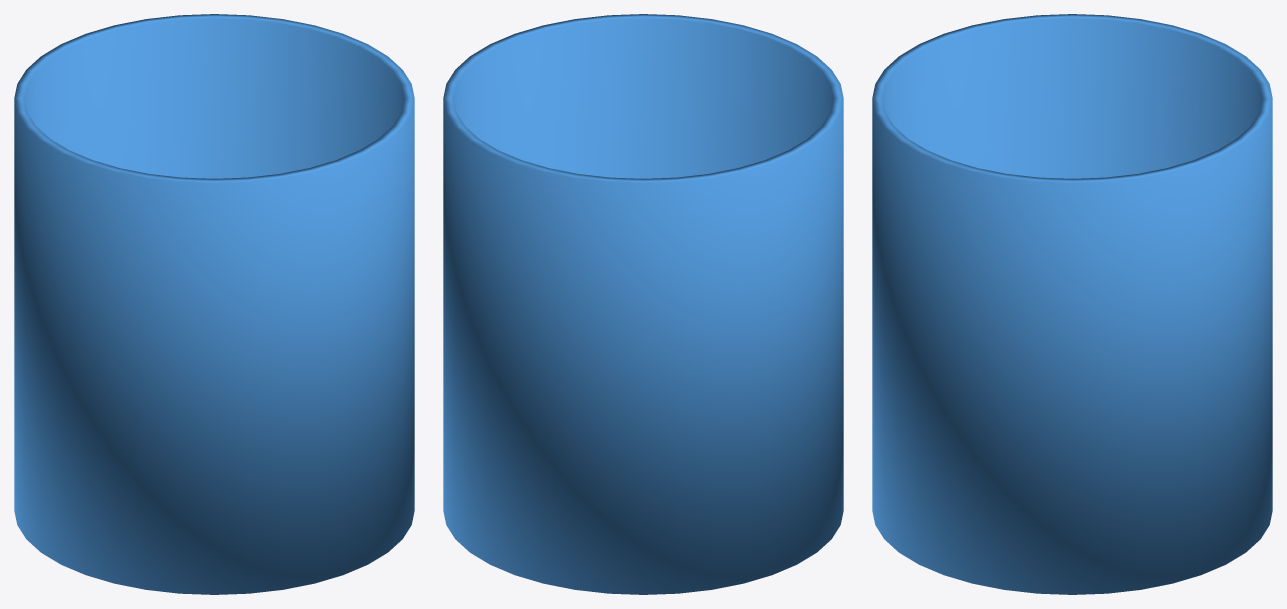
Rendered from container.gltf.
3 renders of one model, left to right at view 1: azimuth 30°, elevation 25°; view 2: azimuth 150°, elevation 25°; view 3: azimuth 270°, elevation 25°, orthographic.
Visible parts, largest first — view 1: Cylinder; view 2: Cylinder; view 3: Cylinder.
Part boxes in pixels (bbox=[...]): Cylinder: bbox=[14, 14, 414, 594]; Cylinder: bbox=[443, 14, 843, 594]; Cylinder: bbox=[872, 14, 1272, 594].
Size of the model in its own units: 1.76 by 2 by 1.76.
